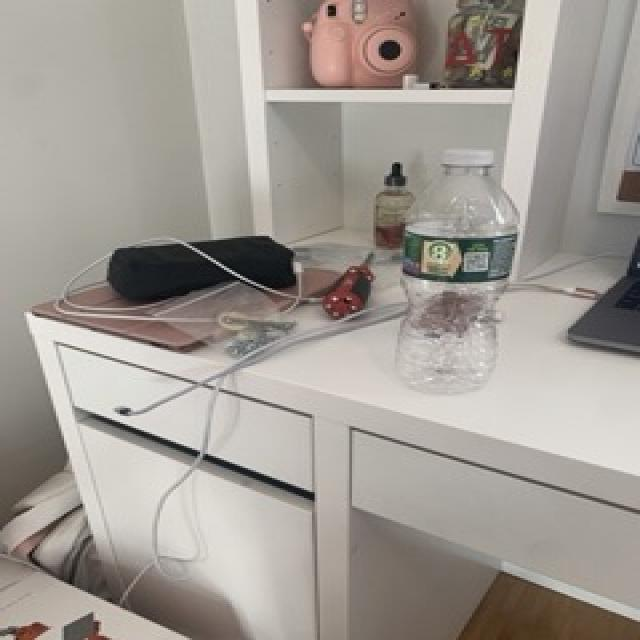water_bottle: (394, 148, 525, 392)
